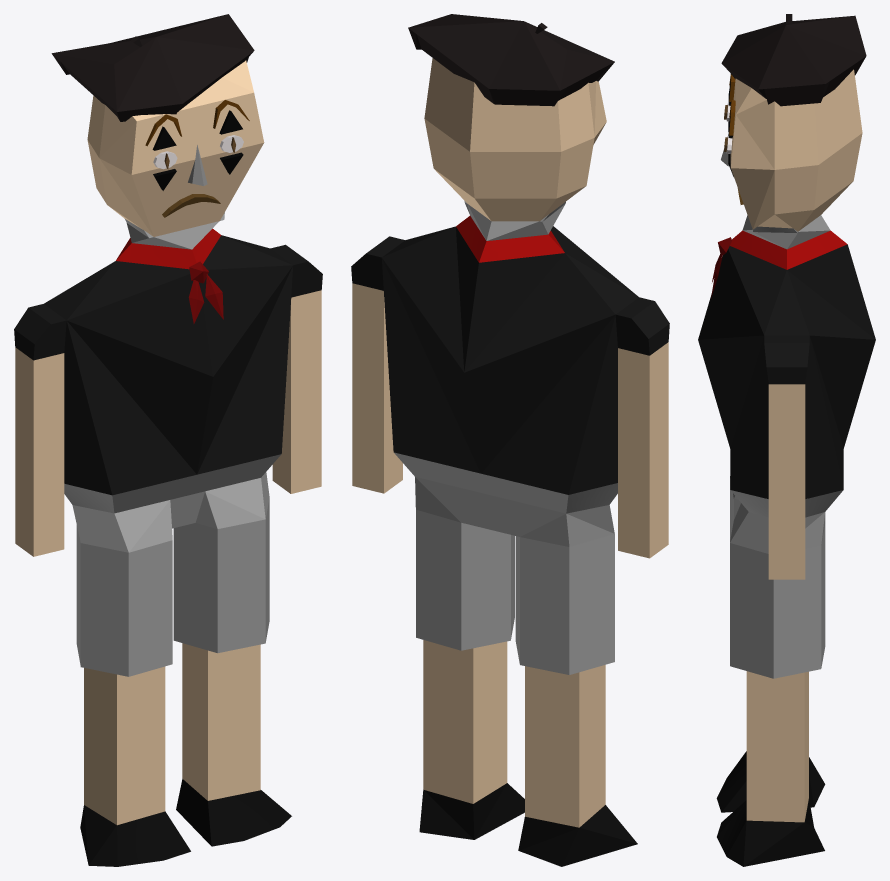
Rendered from FBX_Mime1.fbx.
3 views of the same model, side by side, from view 1: azimuth 30°, elevation 25°; view 2: azimuth 150°, elevation 25°; view 3: azimuth 270°, elevation 25° (orthographic). The views are drawn at different scales.
Parts seen in each view (by area): view 1: body, pants, feet, hands, face, hat, foot, neck2, neck1, tie, triangles; view 2: body, pants, feet, face, hands, hat, foot, neck2, neck1; view 3: body, face, pants, hat, feet, hands, foot, neck2, neck1.
Boxes of the visible parts, x1,y1,x2,y2 form: body: (14,235,322,495); pants: (64,454,281,676); feet: (84,643,260,825); hands: (15,290,321,556); face: (87,60,264,236); hat: (51,14,254,121); foot: (80,779,291,866); neck2: (116,228,221,269); neck1: (125,212,224,249); tie: (188,261,223,323); triangles: (152,110,243,190); body: (351,226,669,494); pants: (394,452,617,674); feet: (423,640,605,827); face: (424,58,606,221); hands: (352,283,668,558); hat: (408,14,614,106); foot: (419,783,637,866); neck2: (456,216,564,262); neck1: (464,201,565,240); body: (698,244,875,498); face: (730,69,862,231); pants: (730,476,843,678); hat: (721,14,866,106); feet: (746,671,808,822); hands: (768,384,805,579); foot: (716,751,825,866); neck2: (730,230,847,269); neck1: (742,215,830,249).
Bounding box in the file's own units: 106 × 279 × 56.98.
